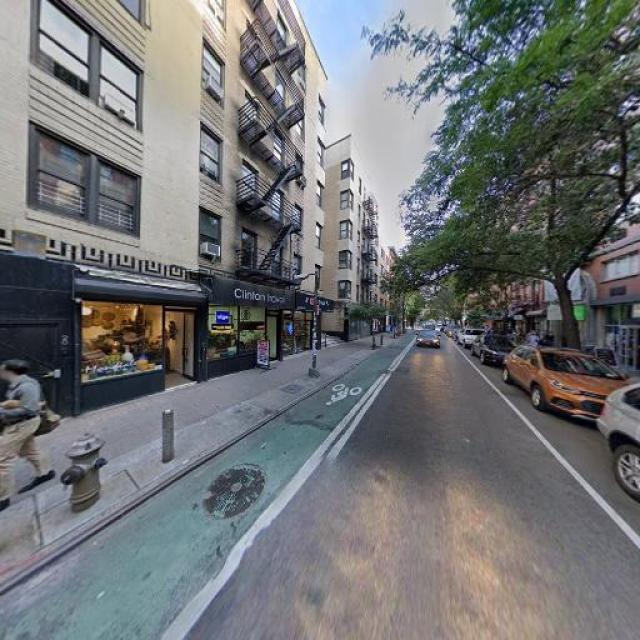Building: (1, 1, 354, 432)
